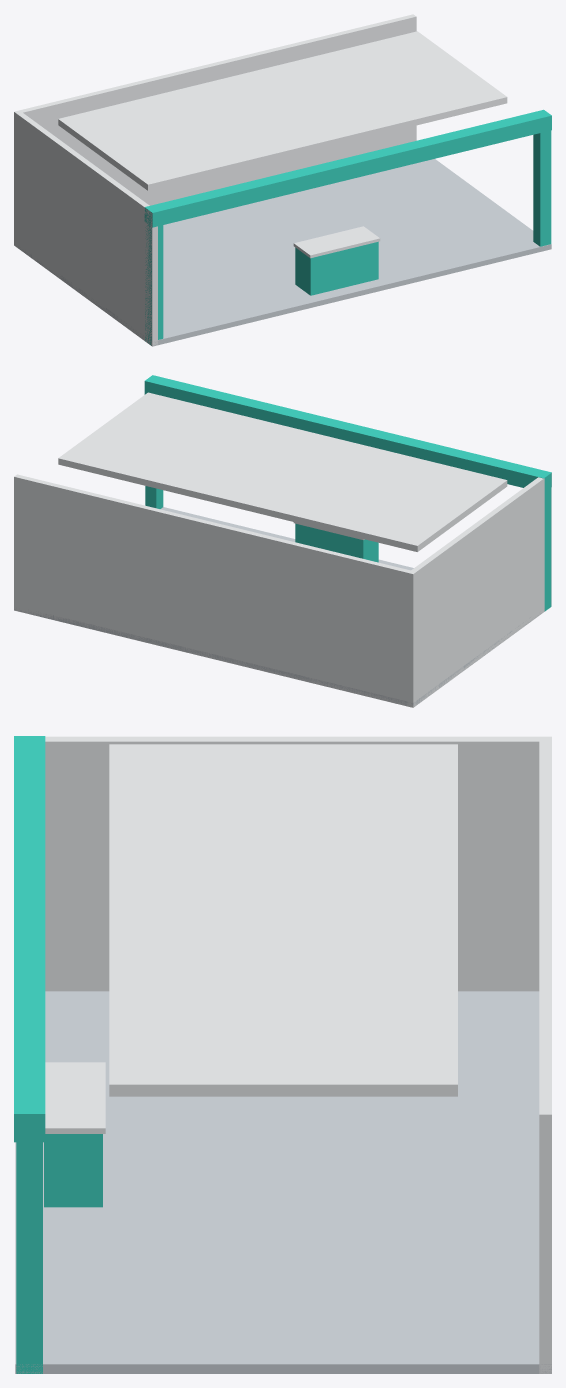
3 views of the same model, one above another, from view 1: azimuth 30°, elevation 25°; view 2: azimuth 150°, elevation 25°; view 3: azimuth 270°, elevation 25° (orthographic). The views are drawn at different scales.
Visible parts, largest first — view 1: Exhibition Booth Concept; view 2: Exhibition Booth Concept; view 3: Exhibition Booth Concept.
Boxes of the visible parts, box(x1,y1,x2,y2) form: Exhibition Booth Concept: box(14, 14, 551, 346); Exhibition Booth Concept: box(14, 375, 551, 707); Exhibition Booth Concept: box(14, 736, 551, 1373).
Bounding box in the file's own units: 10 × 3.34 × 6.02.
